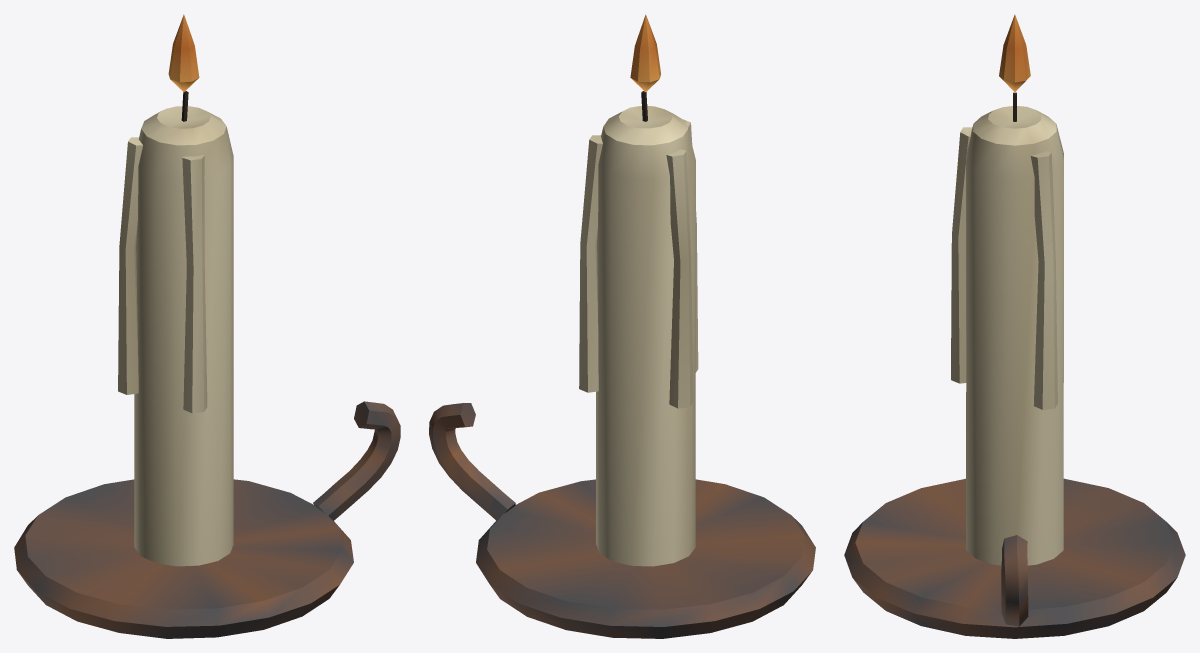
The model's file is tallow-candle.glb.
The picture shows the model from 3 angles, left to right: view 1: azimuth 30°, elevation 25°; view 2: azimuth 150°, elevation 25°; view 3: azimuth 270°, elevation 25°; orthographic projection.
Visible parts, largest first — view 1: tallow-candle; view 2: tallow-candle; view 3: tallow-candle.
Boxes of the visible parts, left/top/right/bottom form: tallow-candle: left=14, top=14, right=400, bottom=638; tallow-candle: left=429, top=14, right=815, bottom=638; tallow-candle: left=844, top=14, right=1185, bottom=638.
Bounding box in the file's own units: 0.1838 × 0.2701 × 0.1499.
